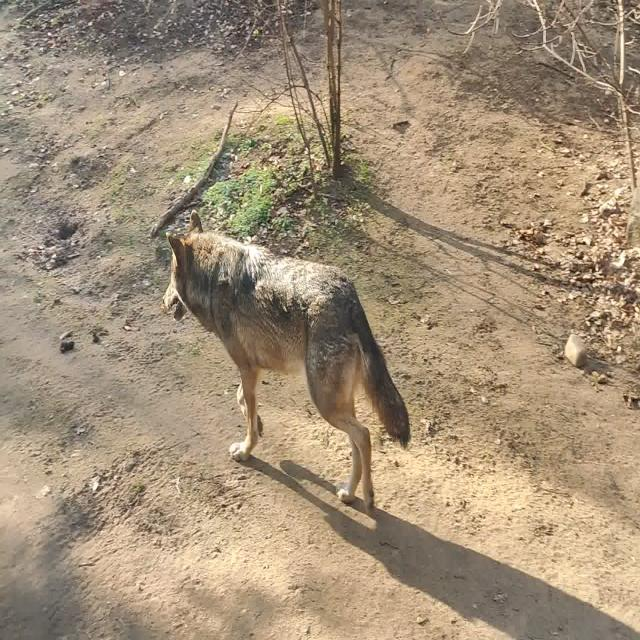dog: (163, 208, 411, 512)
